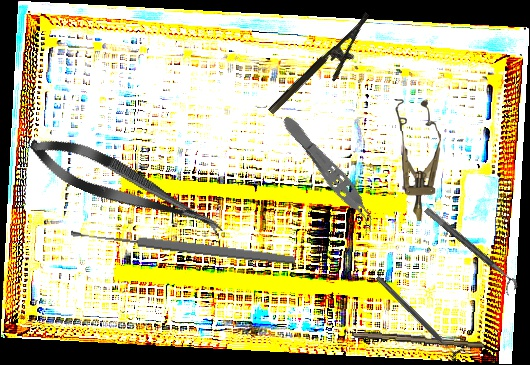Fixation Ring: (417, 206, 521, 297), (370, 270, 467, 364)
Micro Scissor: (22, 125, 232, 249)
Needle Holder: (266, 11, 386, 129)
Scalpel Handle: (351, 329, 485, 349)
Speculum: (393, 98, 443, 222)
Surgical Spoon: (70, 226, 296, 267)
Tissue Forceps: (276, 111, 384, 236)
